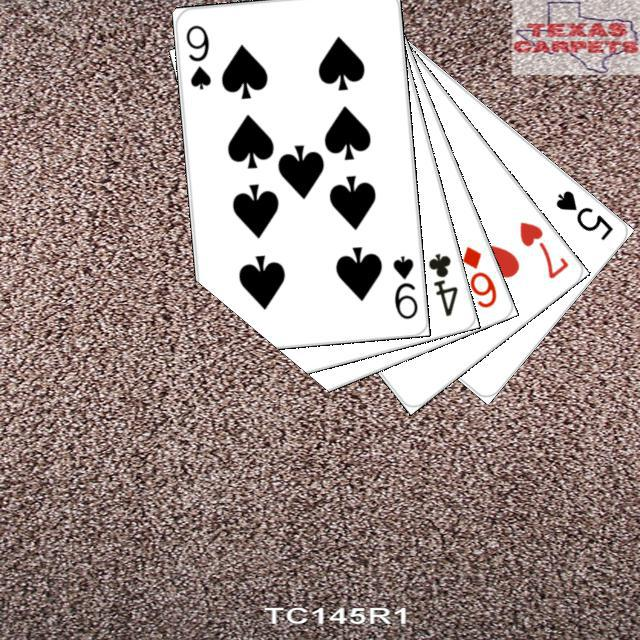4c: (423, 248, 460, 318)
5s: (550, 185, 615, 243)
6d: (457, 241, 499, 310)
7h: (514, 216, 571, 281)
9s: (181, 20, 213, 91), (388, 251, 420, 321)
